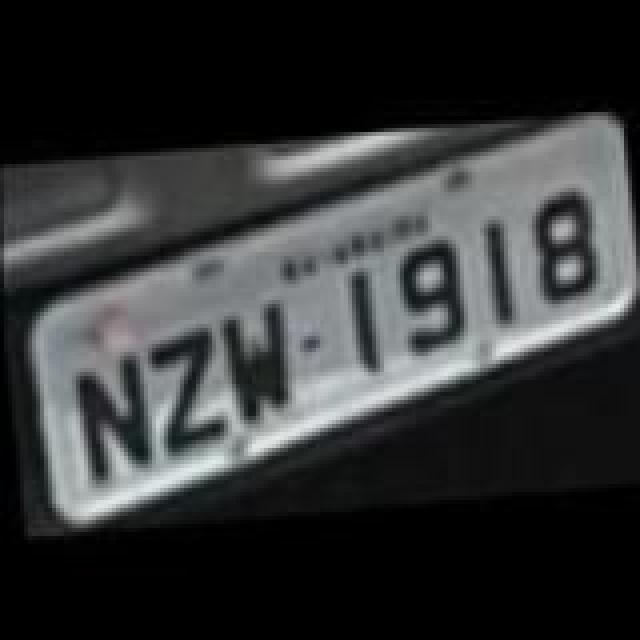1: (338, 262, 386, 374), (474, 210, 518, 318)
8: (530, 182, 606, 310)
9: (388, 228, 468, 356)
N: (68, 350, 152, 486)
W: (216, 292, 296, 420)
Z: (136, 320, 224, 452)
